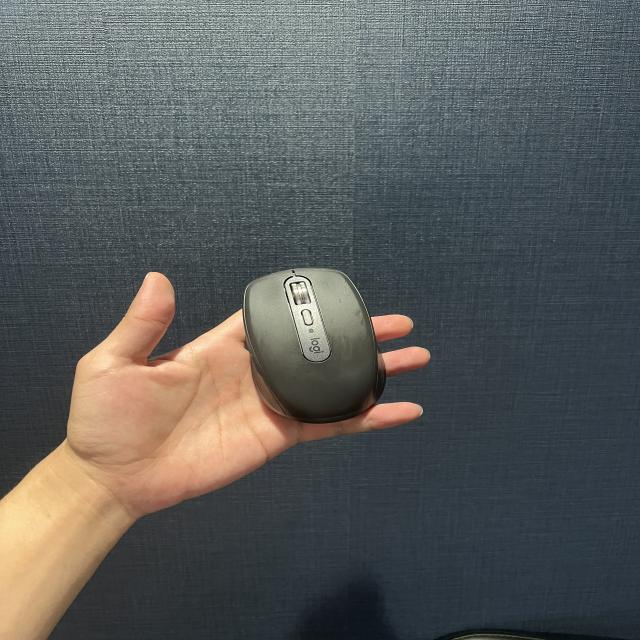mouse: (241, 273, 388, 417)
